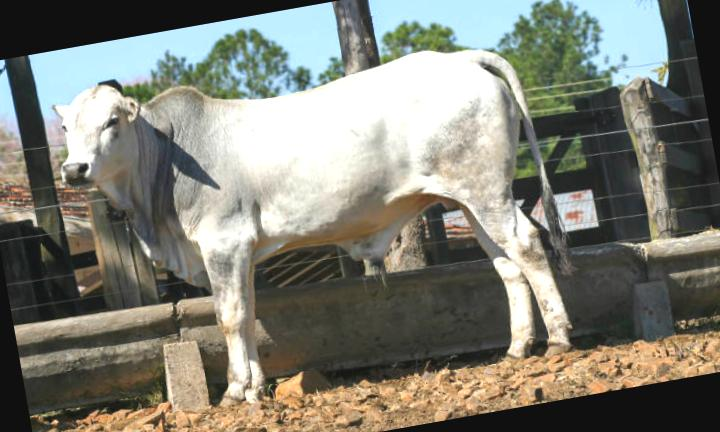Brahman: (53, 50, 572, 403)
